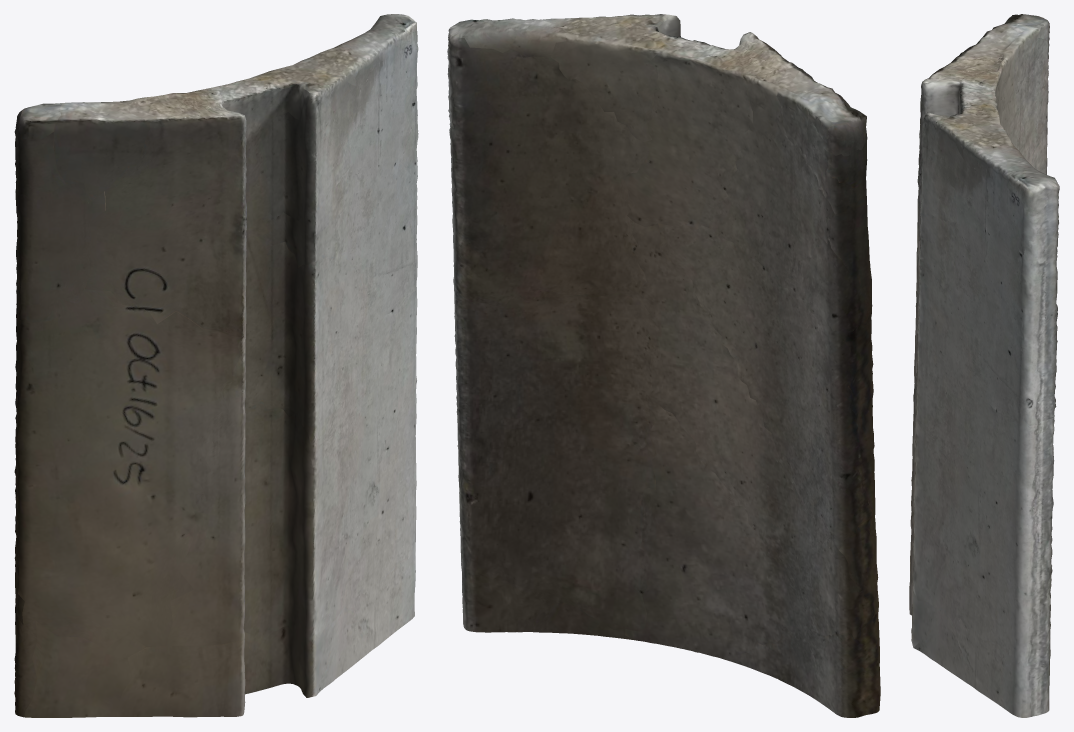
3 renders of one model, left to right at view 1: azimuth 30°, elevation 25°; view 2: azimuth 150°, elevation 25°; view 3: azimuth 270°, elevation 25°, orthographic. The views are drawn at different scales.
Parts seen in each view (by area): view 1: Node; view 2: Node; view 3: Node.
Part boxes in pixels (x1=…): Node: x1=14, y1=14, x2=418, y2=717; Node: x1=447, y1=14, x2=880, y2=717; Node: x1=909, y1=14, x2=1059, y2=717.
Size of the model in its own units: 0.3338 by 0.459 by 0.1165.
Materials: 1 (1 with a texture image).
